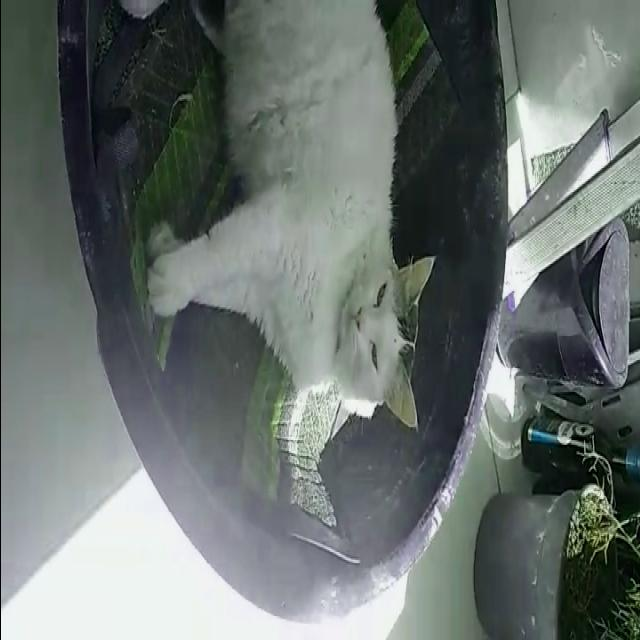Simba: (104, 4, 460, 464)
